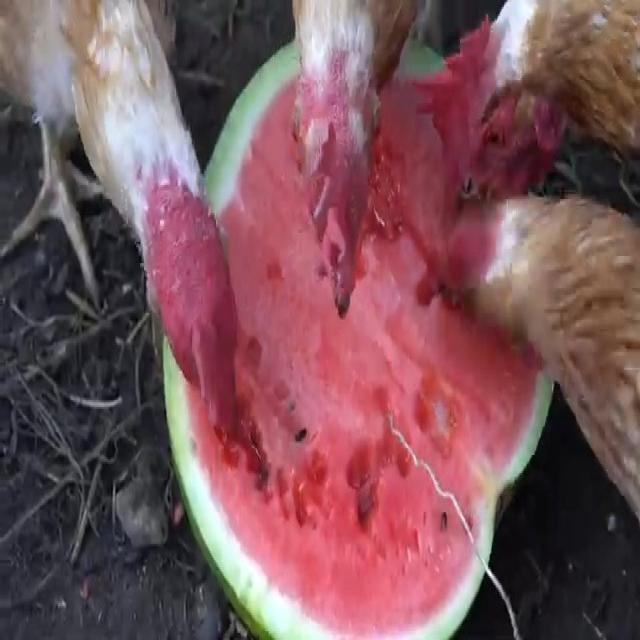feeding: (0, 0, 253, 453), (430, 205, 640, 518), (424, 0, 640, 199), (284, 0, 417, 306)
